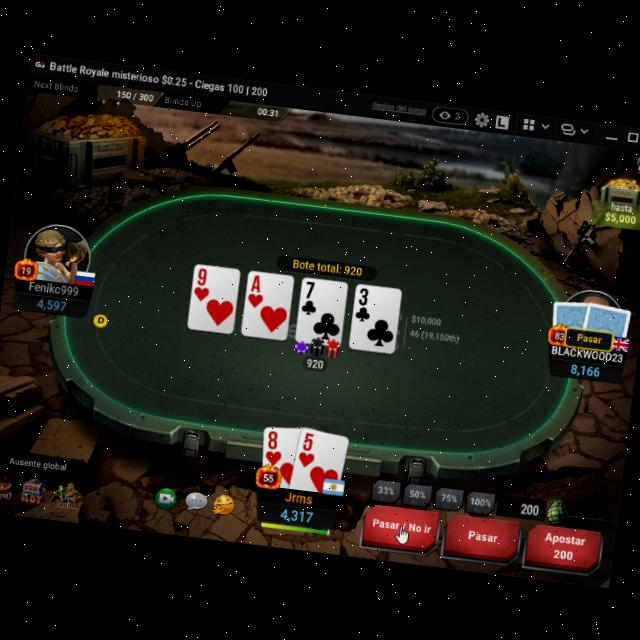3c: (352, 282, 374, 322)
5h: (296, 428, 318, 468)
7c: (299, 275, 321, 314)
8h: (264, 426, 286, 465)
9h: (264, 426, 286, 466), (192, 263, 212, 300)
Ah: (246, 270, 267, 306)
bet_text: (304, 353, 326, 368)
card_back: (578, 294, 634, 348), (547, 292, 593, 344)
dealer: (90, 308, 110, 327)
hero_active: (359, 498, 611, 575)
pot_text: (290, 256, 363, 277)
stack_text: (278, 500, 314, 522), (569, 358, 602, 376), (37, 292, 68, 310)
